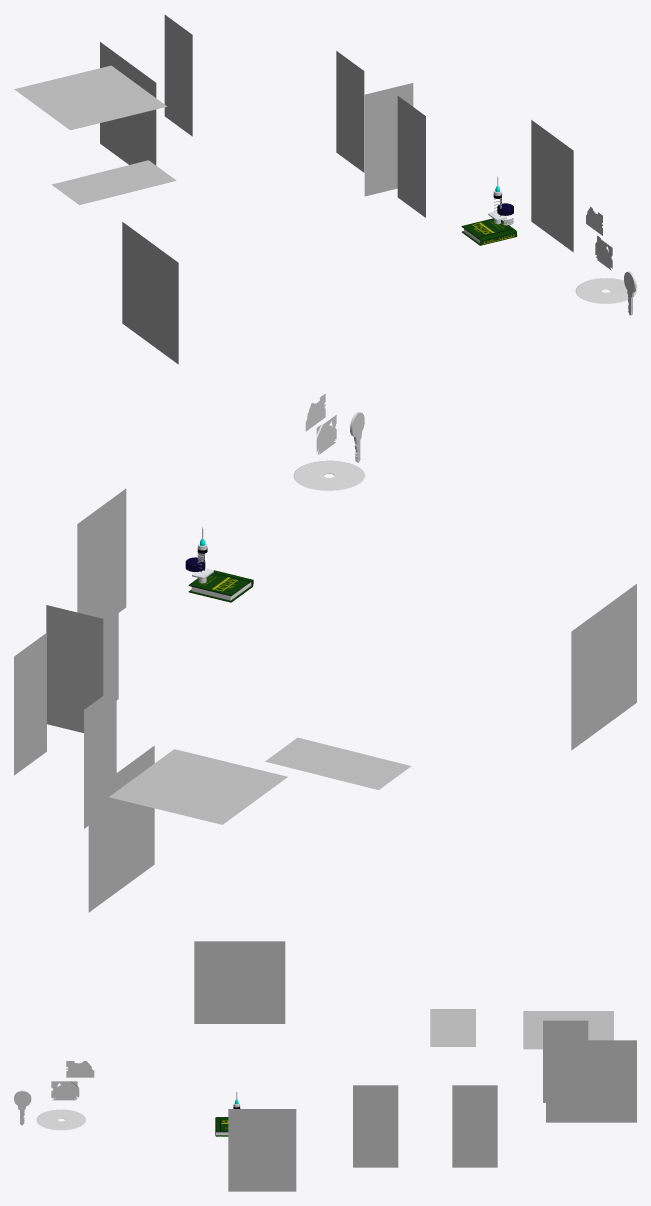
Rendered from Book2.fbx.
The picture shows the model from 3 angles, top to bottom: view 1: azimuth 30°, elevation 25°; view 2: azimuth 150°, elevation 25°; view 3: azimuth 270°, elevation 25°; orthographic projection. The views are drawn at different scales.
Visible parts, largest first — view 1: shopping, CD, images, Needle.001, Key (2), extend left side, Needle, Photos, Bookscale, Bookscale.001, Cylinder, Cube; view 2: shopping, CD, Key (2), extend left side, Needle.001, images, Needle, Bookscale.001, Bookscale, Photos, Cylinder, Cube; view 3: shopping, images, Key (2), extend left side, Needle, Photos, Bookscale, CD, Bookscale.001, Cylinder, Plane, Plane.001.
Boxes of the visible parts, bbox=[...] form: shopping: bbox=[122, 222, 178, 364]; CD: bbox=[14, 65, 166, 130]; images: bbox=[531, 120, 573, 252]; Needle.001: bbox=[364, 83, 413, 196]; Key (2), extend left side: bbox=[100, 42, 156, 165]; Needle: bbox=[336, 51, 364, 172]; Photos: bbox=[397, 96, 425, 217]; Bookscale: bbox=[164, 15, 192, 136]; Bookscale.001: bbox=[52, 160, 176, 204]; Cylinder: bbox=[575, 278, 636, 303]; Cube: bbox=[461, 218, 517, 245]; shopping: bbox=[571, 584, 636, 750]; CD: bbox=[109, 749, 287, 824]; Key (2), extend left side: bbox=[88, 745, 154, 912]; Needle.001: bbox=[46, 605, 103, 732]; images: bbox=[77, 488, 126, 614]; Needle: bbox=[14, 633, 46, 775]; Bookscale.001: bbox=[265, 737, 411, 789]; Bookscale: bbox=[84, 686, 116, 828]; Photos: bbox=[86, 580, 118, 700]; Cylinder: bbox=[293, 460, 365, 490]; Cube: bbox=[188, 570, 253, 602]; shopping: bbox=[194, 941, 285, 1023]; images: bbox=[228, 1109, 296, 1191]; Key (2), extend left side: bbox=[546, 1040, 636, 1122]; Needle: bbox=[452, 1085, 497, 1167]; Photos: bbox=[353, 1085, 398, 1167]; Bookscale: bbox=[543, 1020, 588, 1102]; CD: bbox=[523, 1011, 613, 1049]; Bookscale.001: bbox=[430, 1009, 475, 1046]; Cylinder: bbox=[36, 1109, 85, 1130]; Plane: bbox=[51, 1081, 79, 1100]; Plane.001: bbox=[66, 1061, 94, 1077].
Size of the model in its own units: 427 by 147 by 685.
